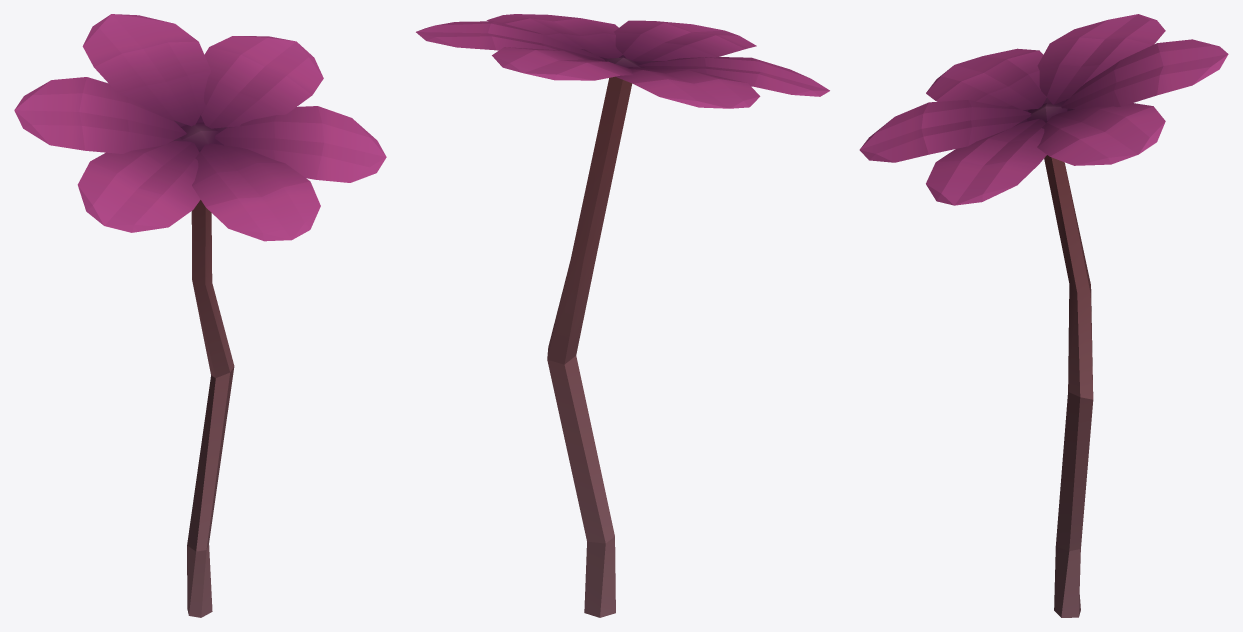
File: UnknownFlowerName04_Pink.fbx
3 renders of one model, left to right at view 1: azimuth 30°, elevation 25°; view 2: azimuth 150°, elevation 25°; view 3: azimuth 270°, elevation 25°, orthographic. The views are drawn at different scales.
Visible parts, largest first — view 1: UnknownFlowerName04_Pink; view 2: UnknownFlowerName04_Pink; view 3: UnknownFlowerName04_Pink.
Boxes of the visible parts, left/top/right/bottom form: UnknownFlowerName04_Pink: left=14, top=14, right=386, bottom=617; UnknownFlowerName04_Pink: left=416, top=14, right=829, bottom=617; UnknownFlowerName04_Pink: left=859, top=14, right=1228, bottom=617.
Bounding box in the file's own units: 19.01 × 33.85 × 20.44.
